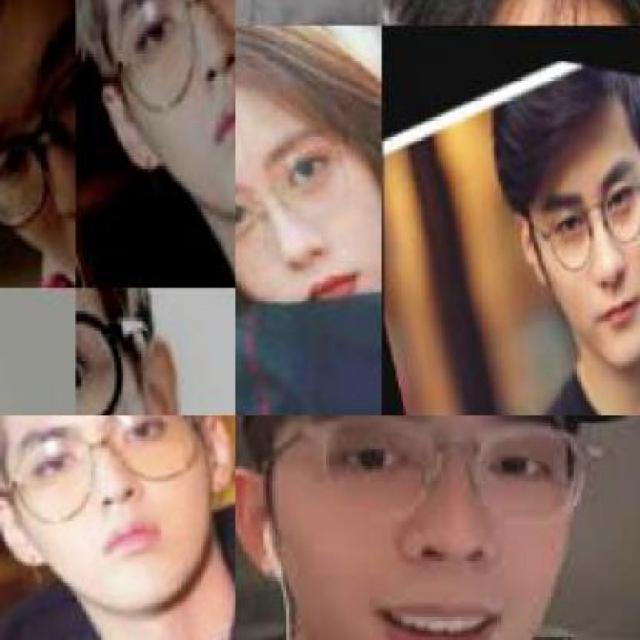mask: (303, 416, 596, 516), (0, 415, 222, 537), (0, 0, 74, 260), (80, 0, 234, 116), (75, 288, 178, 414), (521, 168, 639, 274), (235, 136, 360, 236)
